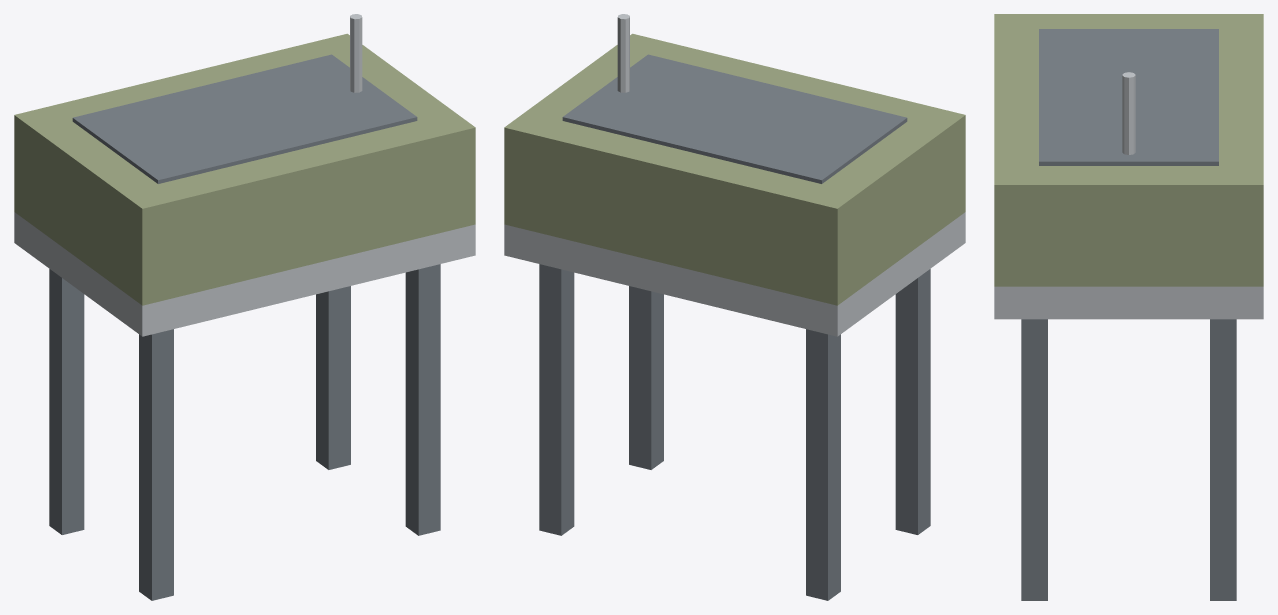
File: mech-hangar-and-battle-frames-parts-washer-1ede63f7__26978.glb
3 renders of one model, left to right at view 1: azimuth 30°, elevation 25°; view 2: azimuth 150°, elevation 25°; view 3: azimuth 270°, elevation 25°, orthographic. The views are drawn at different scales.
Visible parts, largest first — view 1: parts-washer; view 2: parts-washer; view 3: parts-washer.
Part boxes in pixels (x1,y1,x2,y2): parts-washer: (14,14,475,600); parts-washer: (504,14,965,600); parts-washer: (994,14,1263,600).
Size of the model in its own units: 0.9 by 1.25 by 0.6.
